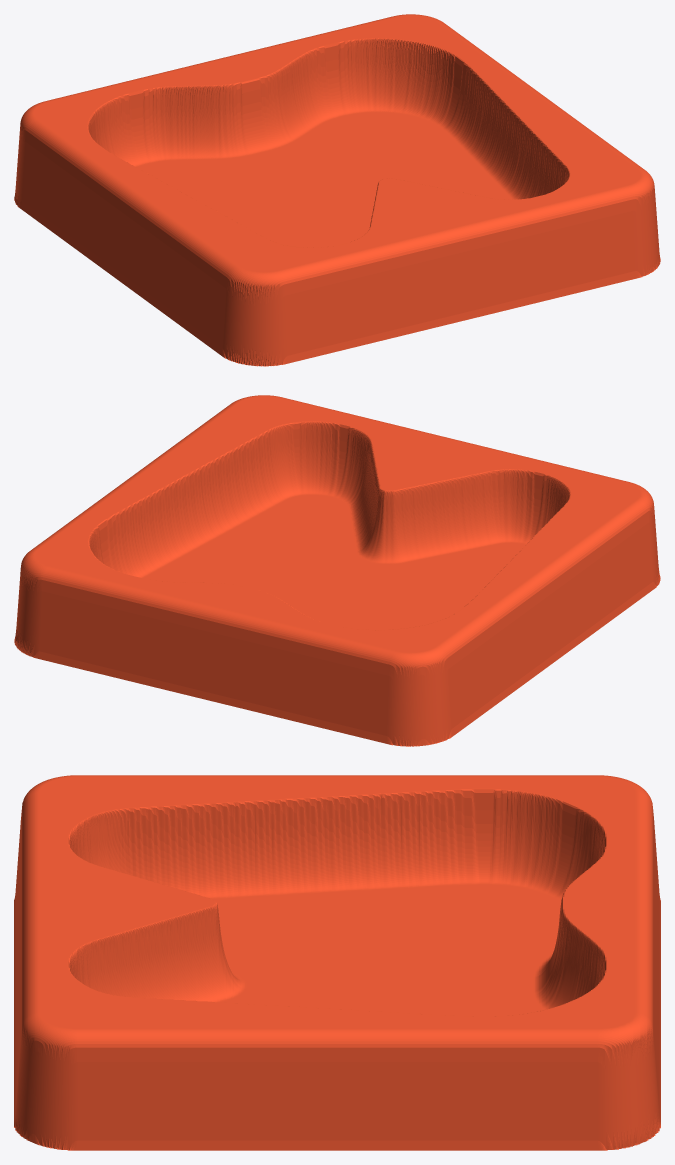
File: mold.glb
The picture shows the model from 3 angles, top to bottom: view 1: azimuth 30°, elevation 25°; view 2: azimuth 150°, elevation 25°; view 3: azimuth 270°, elevation 25°; orthographic projection. The views are drawn at different scales.
Visible parts, largest first — view 1: geometry_0; view 2: geometry_0; view 3: geometry_0.
Part boxes in pixels (x1=…): geometry_0: x1=14, y1=14, x2=660, y2=366; geometry_0: x1=14, y1=395, x2=660, y2=746; geometry_0: x1=14, y1=775, x2=660, y2=1150.
Bounding box in the file's own units: 0.0924 × 0.0175 × 0.0924.
